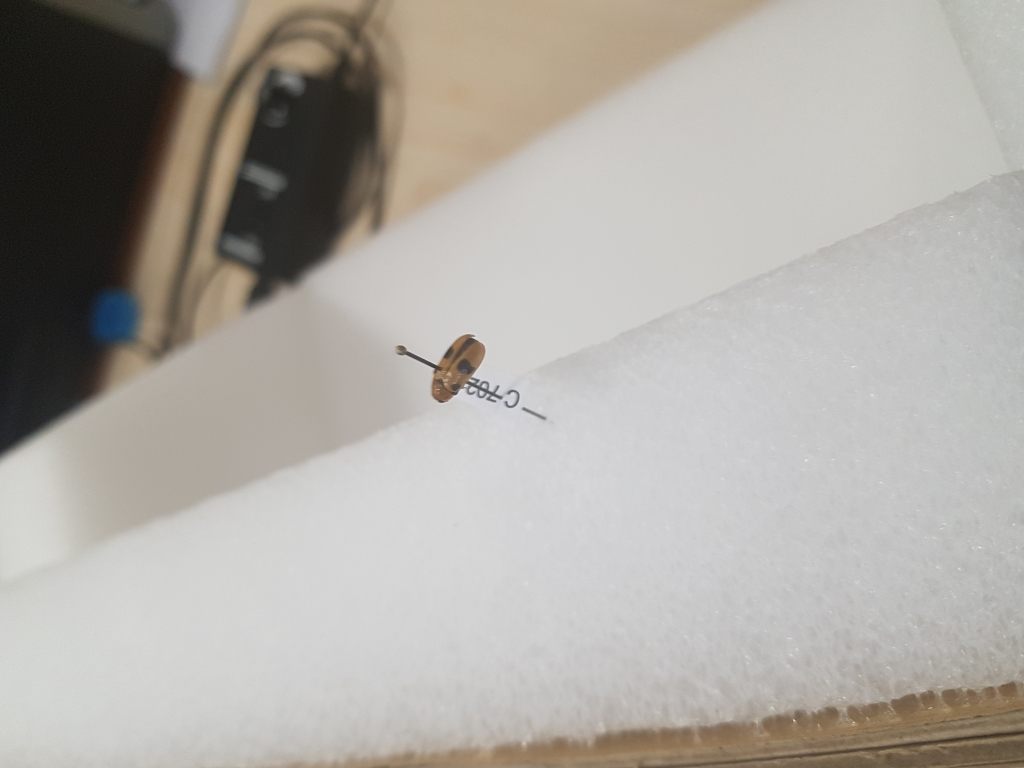Tituboea_macropus: (428, 332, 485, 403)
